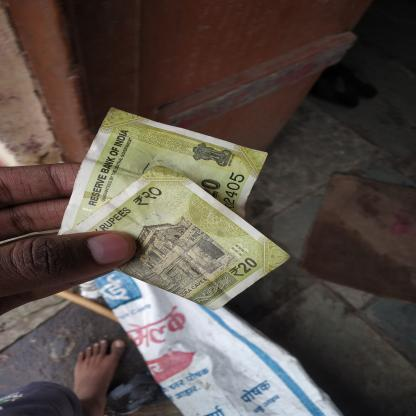New20Back: (99, 184, 260, 298)
